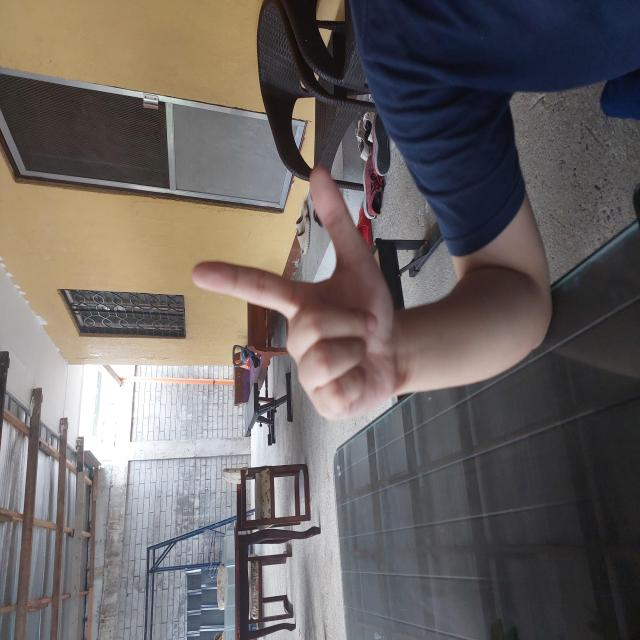L: (218, 189, 476, 400)
